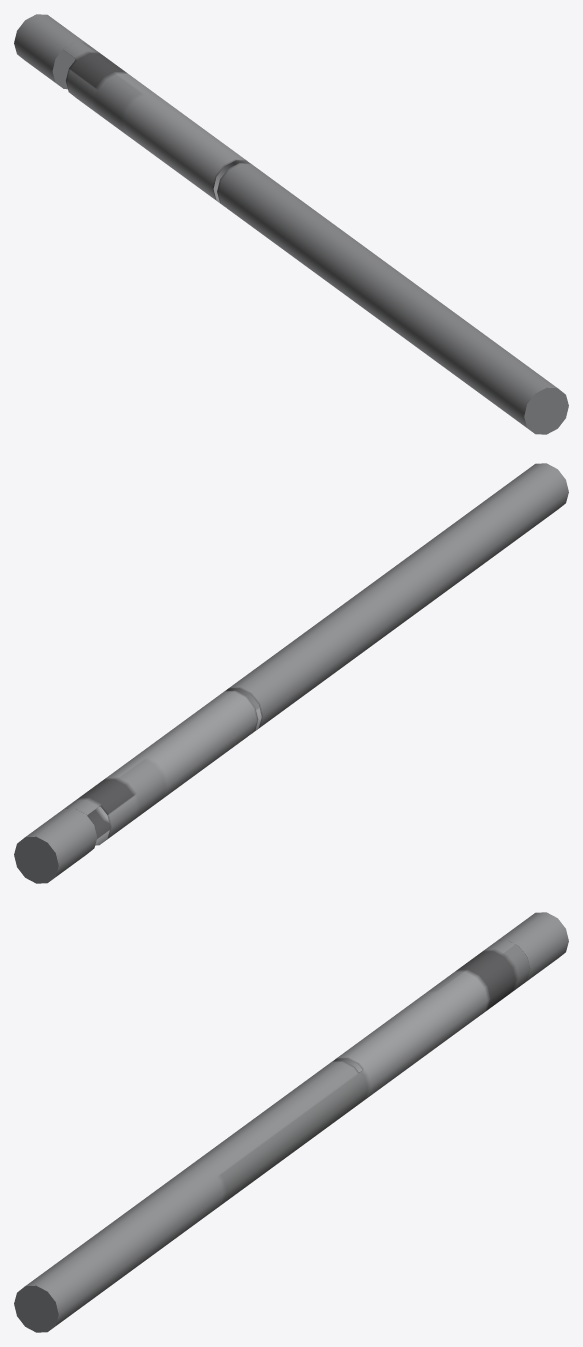
The picture shows the model from 3 angles, top to bottom: view 1: azimuth 30°, elevation 25°; view 2: azimuth 150°, elevation 25°; view 3: azimuth 330°, elevation 25°; orthographic projection.
Size of the model in its own units: 0.1344 by 0.1344 by 2.65.
